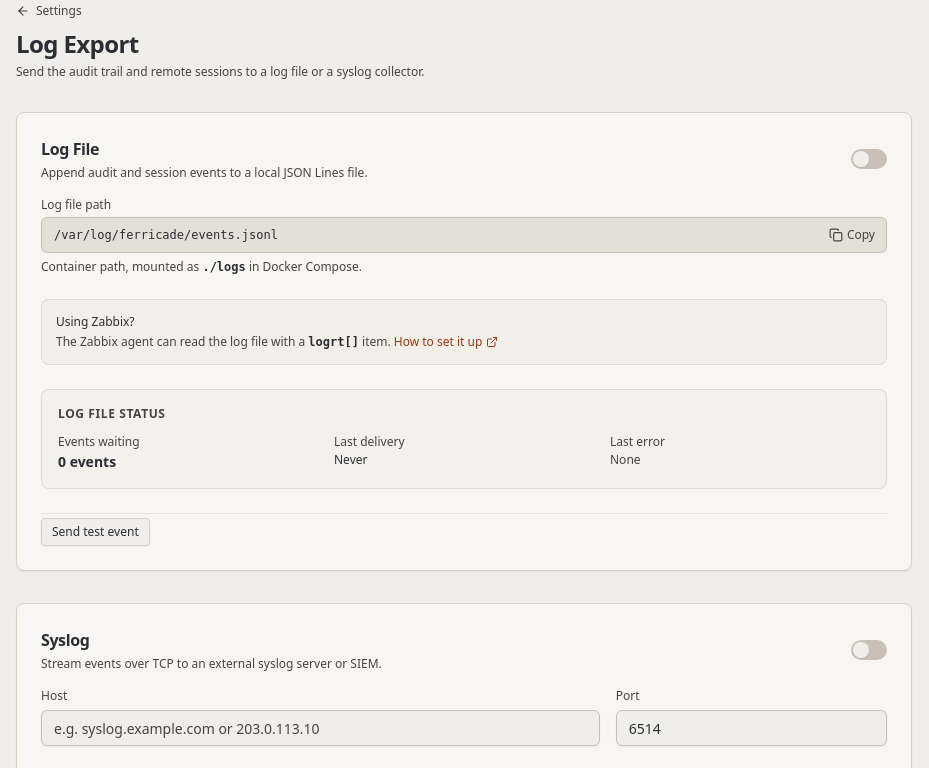
Test case: LogExportView › displays 400 validation error naming syslog.host at the host field
Expected: the text "Log File" is shown, [41, 138, 99, 160]
Note: Toggle syslog enabled
Click the switch named "Enable syslog export" at (869, 650), box [851, 640, 887, 660]
(page scrolled)
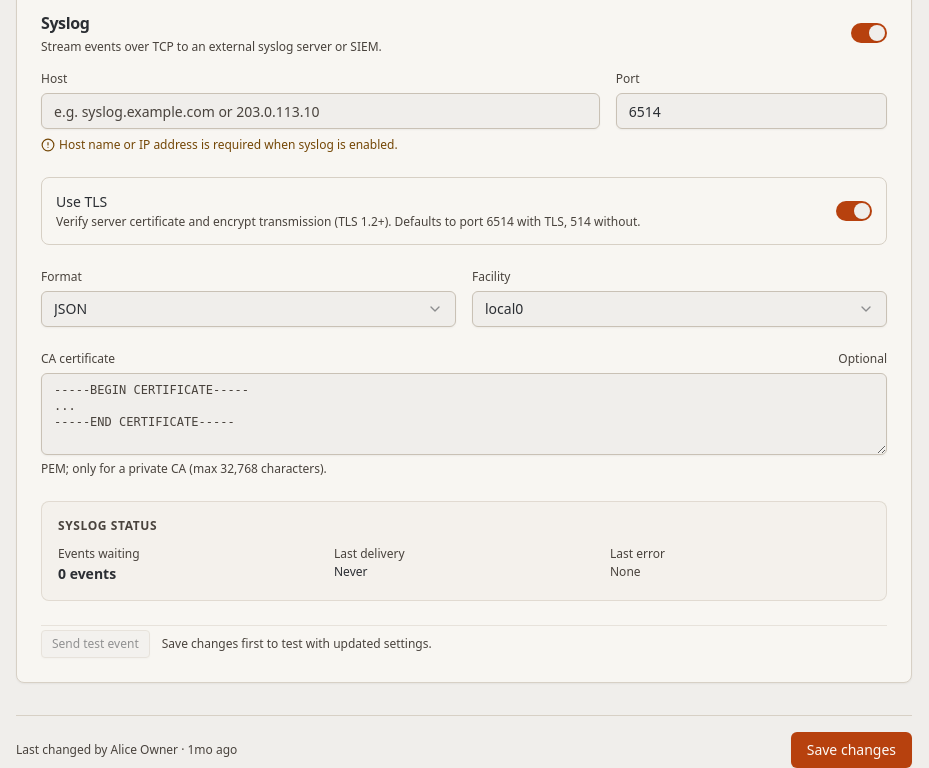
Note: Submit form
Click the button "Save changes" at (851, 750), box [791, 732, 912, 767]
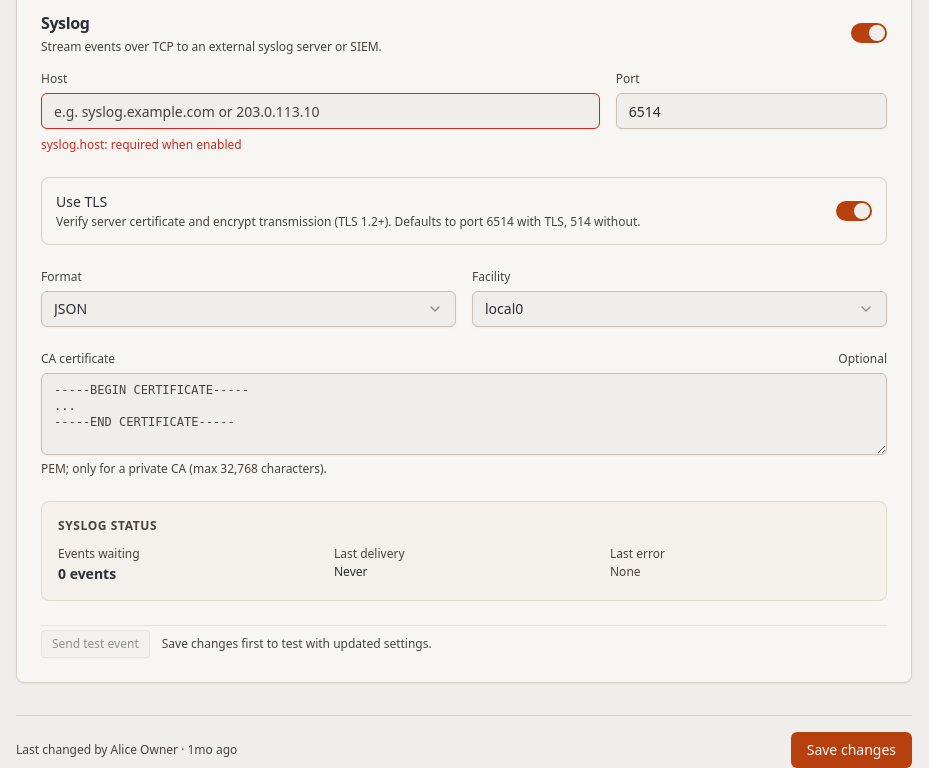
Now the message reads "syslog.host: required when enabled", box [41, 136, 242, 153]
Note: Editing host clears the field error
Type "syslog.example.com" into the field labelled "Host" at (320, 111), box [41, 93, 600, 129]
(page scrolled)
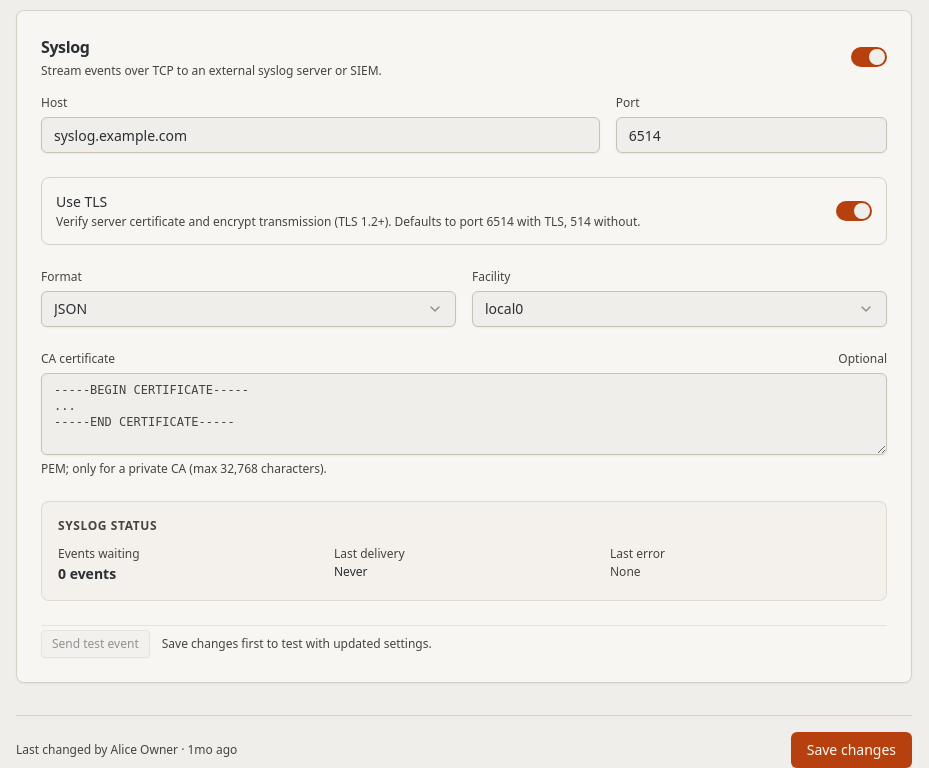
Now the text "syslog.host: required when enabled" is gone
